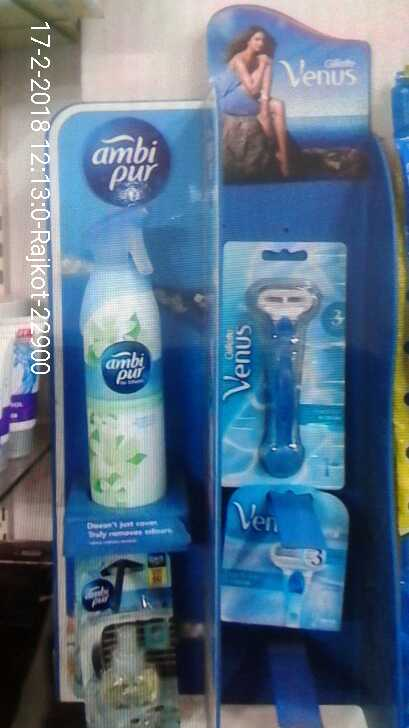beauty: (215, 233, 347, 491), (221, 479, 354, 630)
home: (70, 200, 181, 508), (70, 564, 189, 728)
